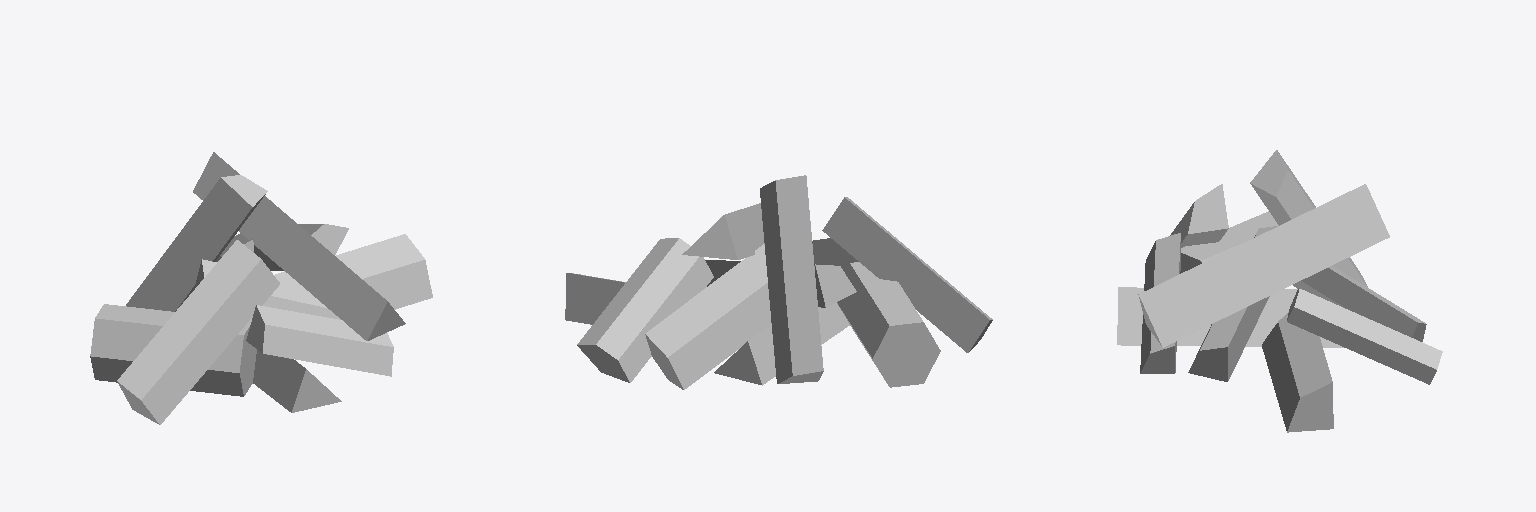
File: bonfire.obj
The picture shows the model from 3 angles: view 1: azimuth 30°, elevation 25°; view 2: azimuth 150°, elevation 25°; view 3: azimuth 270°, elevation 25°; orthographic projection.
Parts seen in each view (by area): view 1: bonfire_mesh; view 2: bonfire_mesh; view 3: bonfire_mesh.
Boxes of the visible parts, <box> form: bonfire_mesh: <box>90,152,432,424</box>; bonfire_mesh: <box>565,175,992,389</box>; bonfire_mesh: <box>1117,150,1442,432</box>.
Size of the model in its own units: 0.9223 by 0.4329 by 0.72.